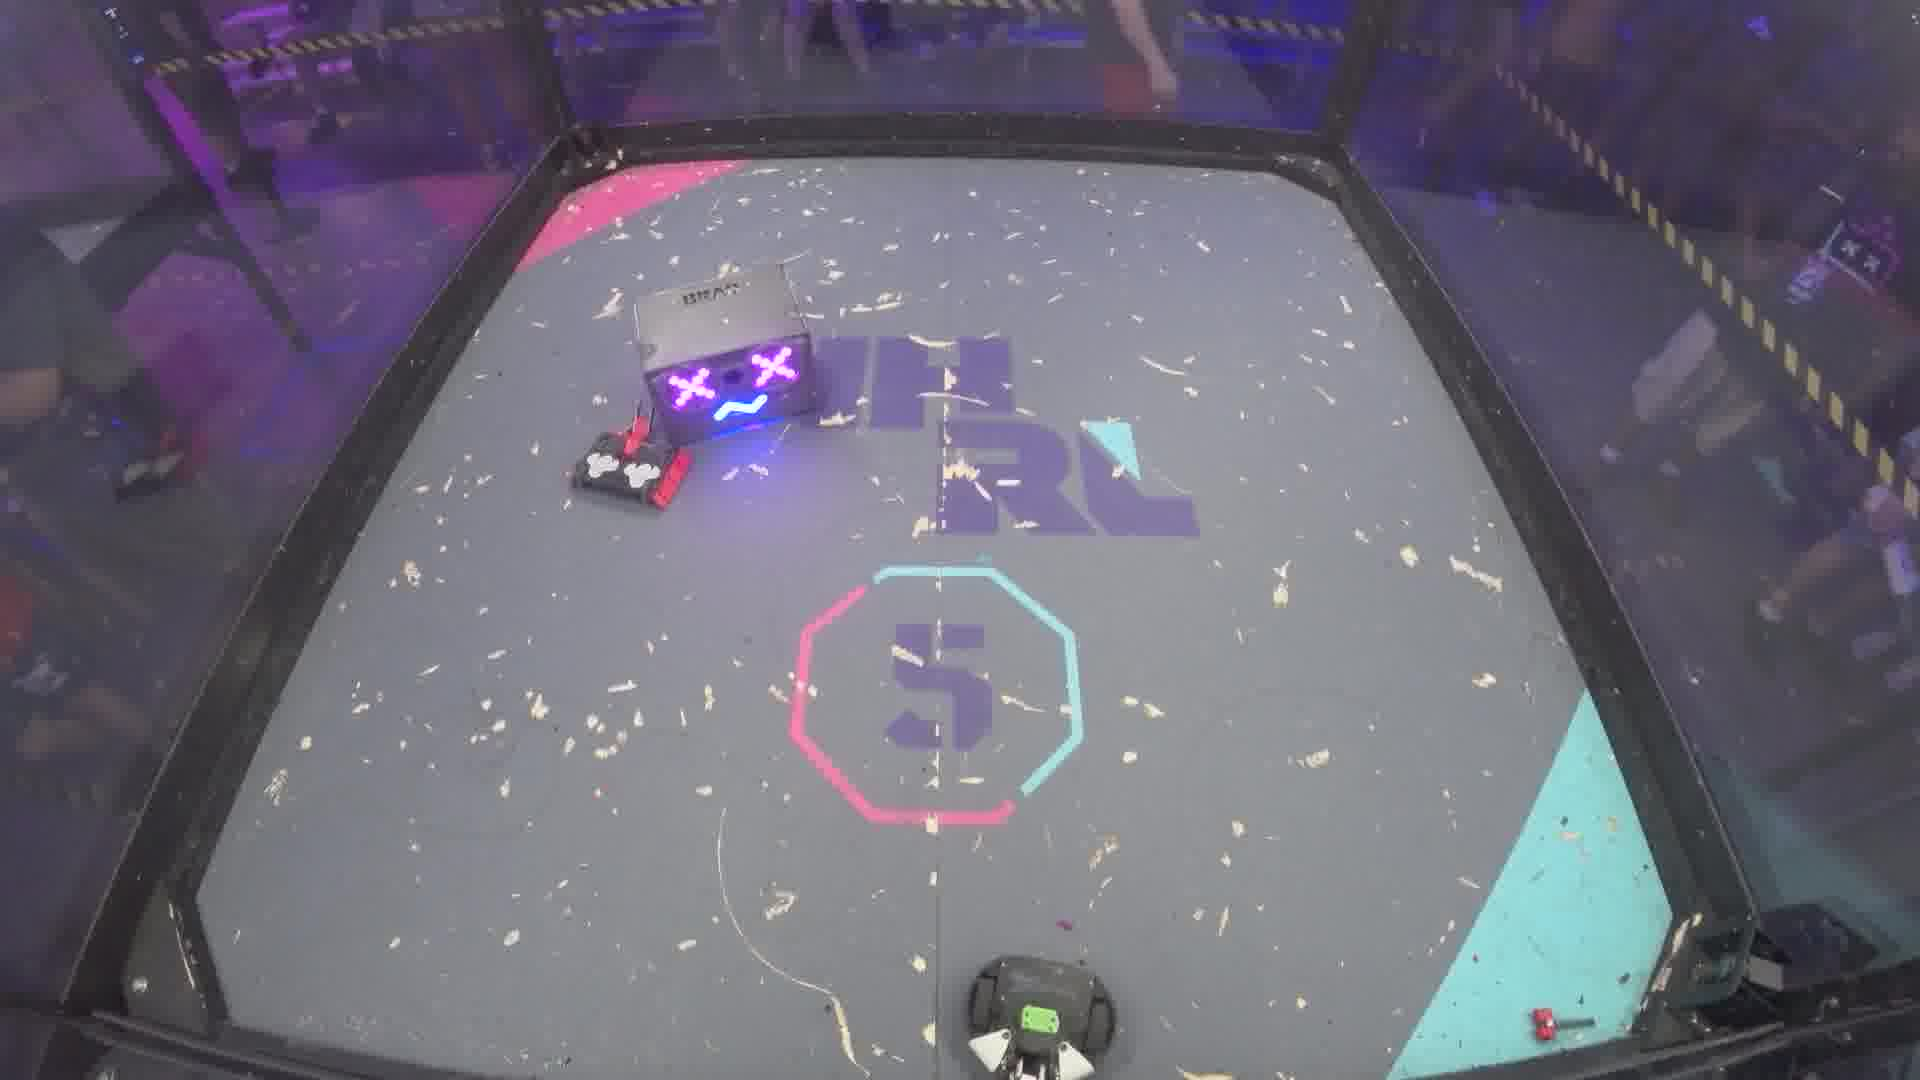combatbot: (964, 959, 1118, 1077), (562, 418, 696, 516)
debris: (1530, 1006, 1586, 1043)
housebot: (634, 266, 811, 439)
